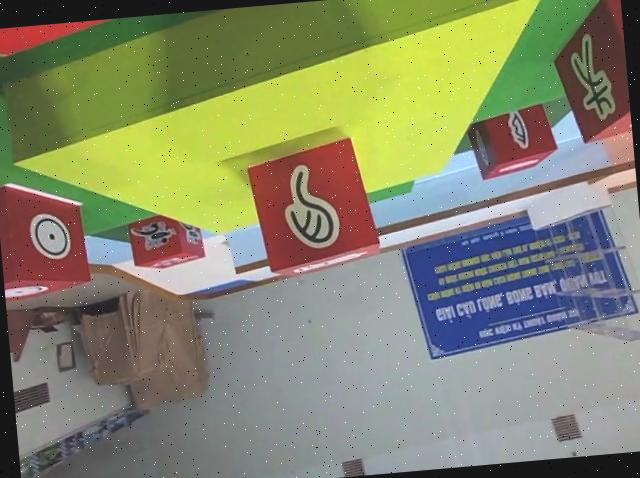R1: (124, 209, 207, 274)
R2 Fake: (241, 131, 383, 283), (543, 0, 633, 149)
R2 Real: (0, 176, 94, 303), (462, 97, 560, 183)
